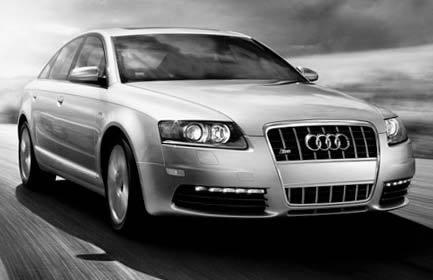car: (16, 28, 418, 239)
